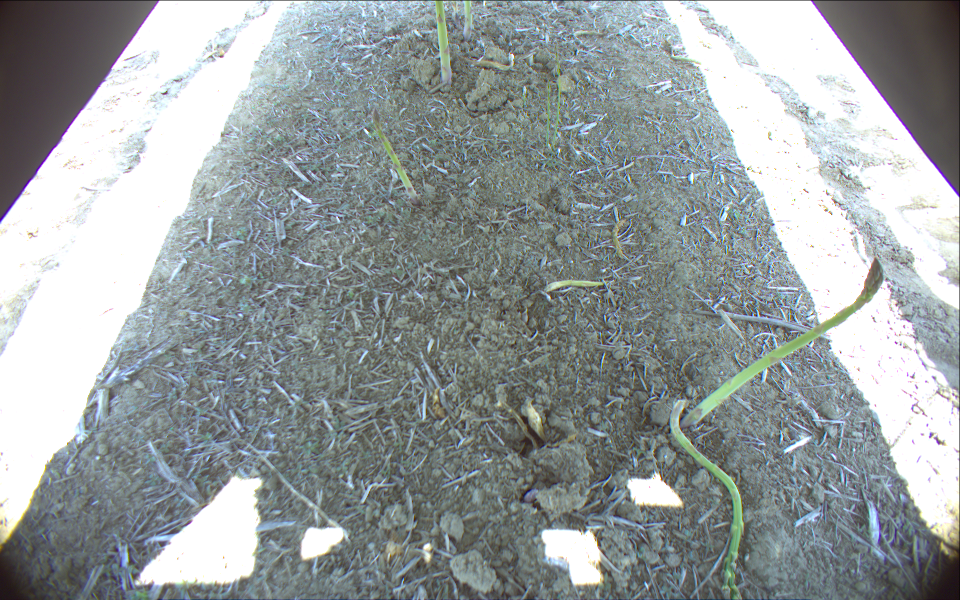aspa: (681, 256, 883, 428), (670, 399, 743, 600), (372, 108, 418, 199), (432, 1, 454, 85), (463, 53, 515, 72), (554, 61, 565, 148), (544, 280, 604, 293), (543, 84, 553, 150), (610, 219, 626, 258), (573, 29, 603, 47), (671, 54, 711, 67), (462, 1, 473, 39), (451, 1, 460, 24)
